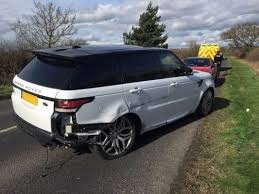Dent: (115, 103, 149, 125), (136, 90, 154, 107)
Smashed: (40, 112, 110, 150)
